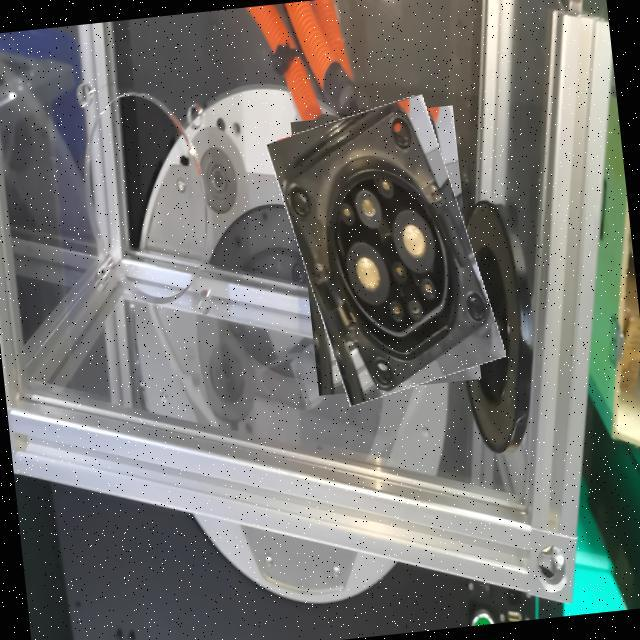GB-T: (304, 103, 472, 426)
